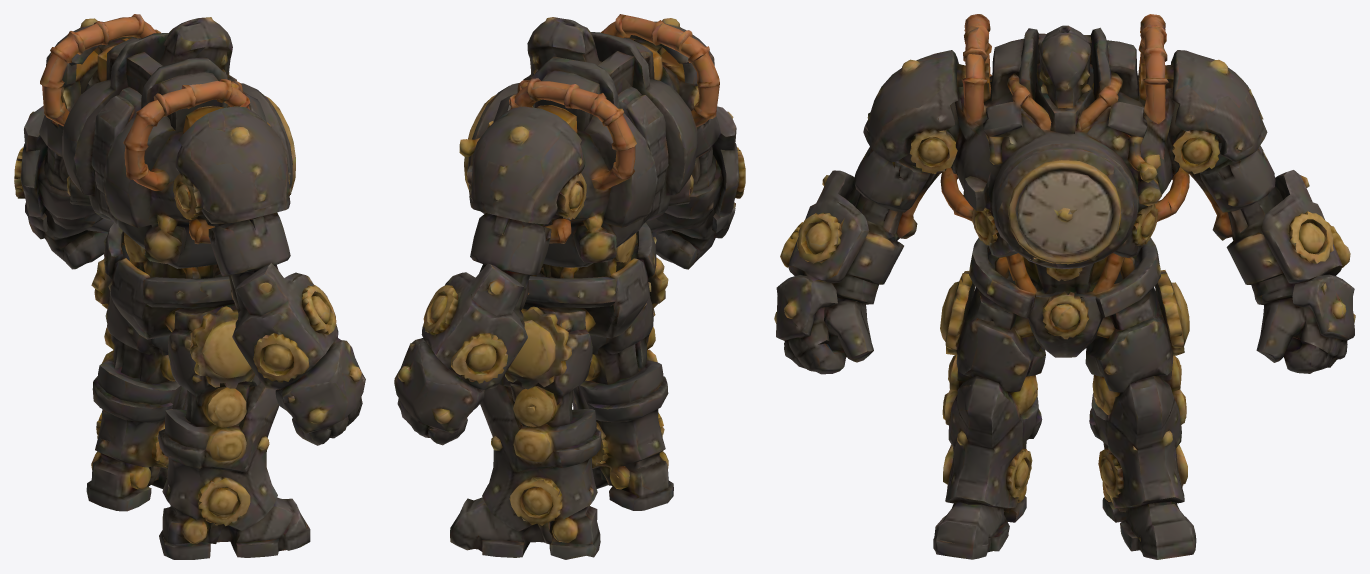
Rendered from clockGolem.glb.
3 views of the same model, side by side, from view 1: azimuth 30°, elevation 25°; view 2: azimuth 150°, elevation 25°; view 3: azimuth 270°, elevation 25° (orthographic). The views are drawn at different scales.
Parts seen in each view (by area): view 1: geometry_0; view 2: geometry_0; view 3: geometry_0.
Boxes of the visible parts, x1,y1,x2,y2 form: geometry_0: [14, 14, 365, 559]; geometry_0: [394, 14, 745, 559]; geometry_0: [774, 14, 1355, 559].
Bounding box in the file's own units: 0.3929 × 0.9547 × 0.9982.
1 material, 1 textured.
